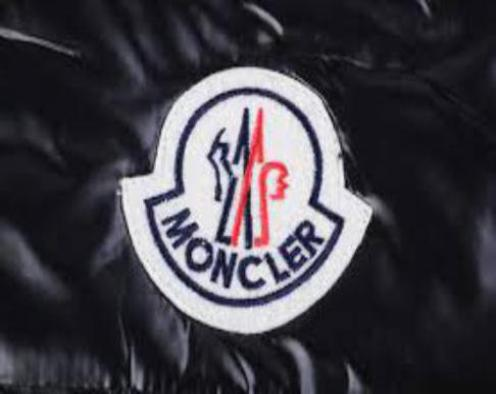MONCLER: (202, 103, 295, 249)
